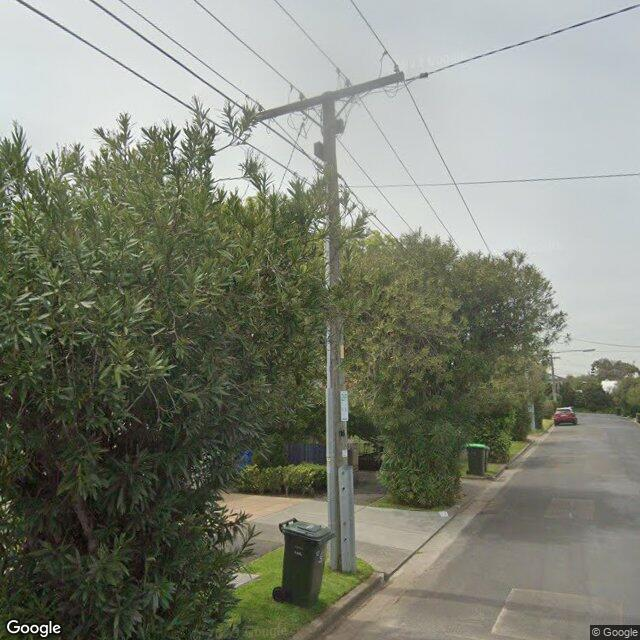crossarm: (252, 71, 405, 126), (549, 357, 560, 359)
streetlight: (549, 349, 596, 353)
timber-pole: (323, 91, 347, 571), (550, 350, 556, 401)
